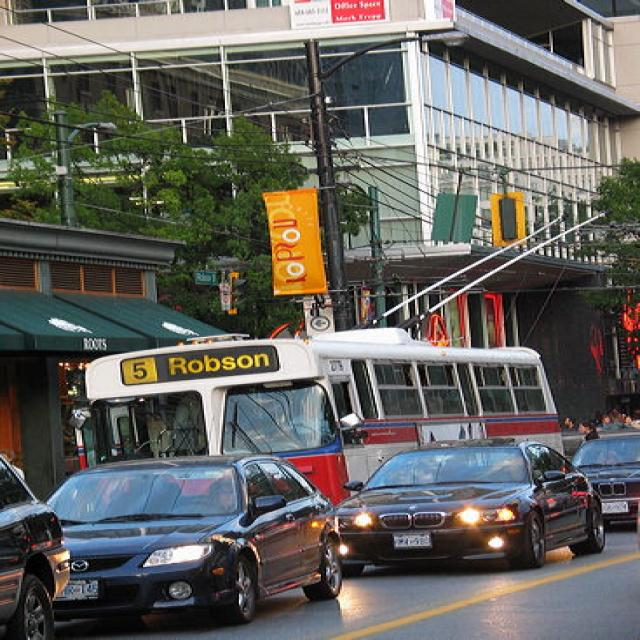Vehicle: (86, 348, 574, 506), (45, 453, 343, 627), (341, 441, 607, 560), (0, 456, 73, 631), (565, 429, 640, 525)
